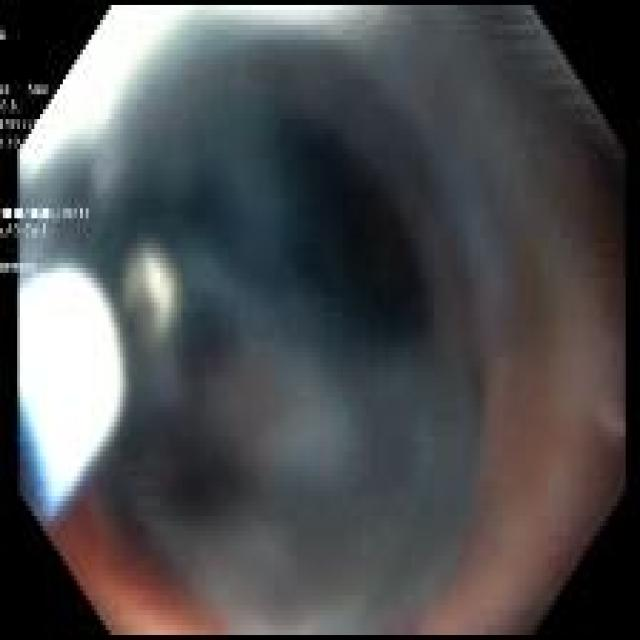blur: (174, 12, 608, 639), (20, 217, 198, 534)
color misalignment: (2, 204, 91, 243), (1, 99, 40, 149), (1, 261, 37, 276), (26, 83, 49, 96), (1, 83, 15, 100), (1, 28, 11, 46)
contrast: (310, 142, 415, 321)
instrument: (18, 246, 185, 530)
saturation: (19, 9, 376, 177), (20, 272, 121, 505)
